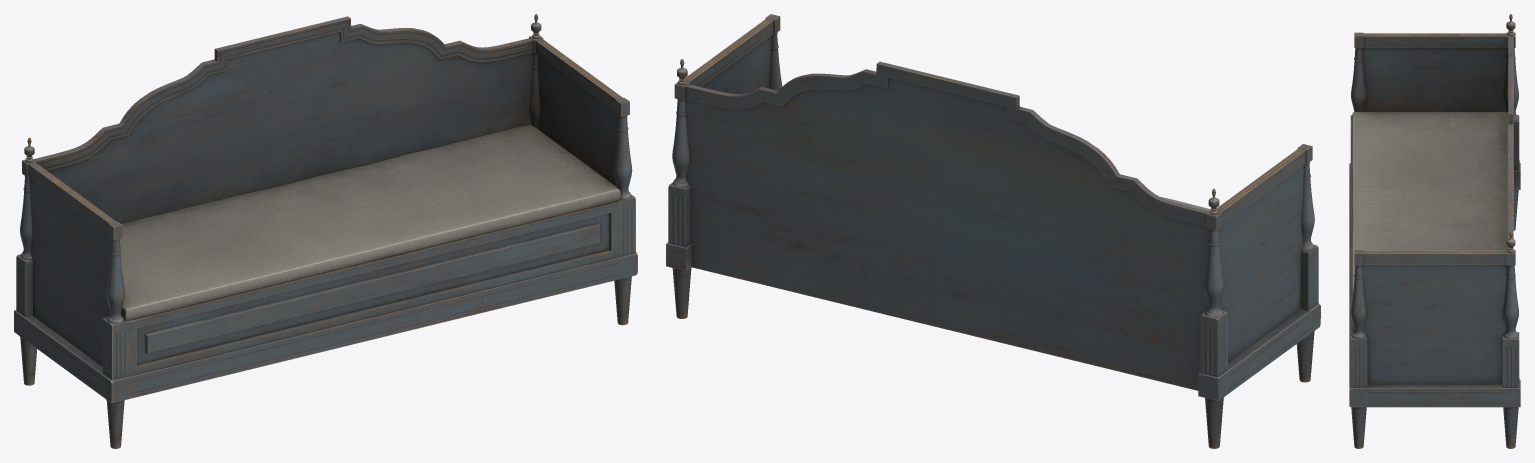
File: painted_wooden_sofa.glb
The picture shows the model from 3 angles, left to right: view 1: azimuth 30°, elevation 25°; view 2: azimuth 150°, elevation 25°; view 3: azimuth 270°, elevation 25°; orthographic projection. The views are drawn at different scales.
Parts seen in each view (by area): view 1: painted_wooden_sofa; view 2: painted_wooden_sofa; view 3: painted_wooden_sofa.
Part boxes in pixels (x1,y1,x2,y2): painted_wooden_sofa: [14, 14, 637, 448]; painted_wooden_sofa: [666, 14, 1320, 448]; painted_wooden_sofa: [1349, 14, 1520, 448].
Size of the model in its own units: 2.45 by 1.28 by 0.7873.
Materials: 1 (1 with a texture image).
